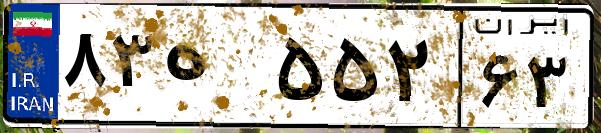2: (385, 28, 445, 110)
3: (525, 38, 570, 115), (110, 28, 158, 98)
5: (270, 28, 330, 110), (330, 28, 385, 110)
6: (475, 38, 525, 113)
8: (57, 26, 110, 100)
ه: (158, 20, 270, 120)
